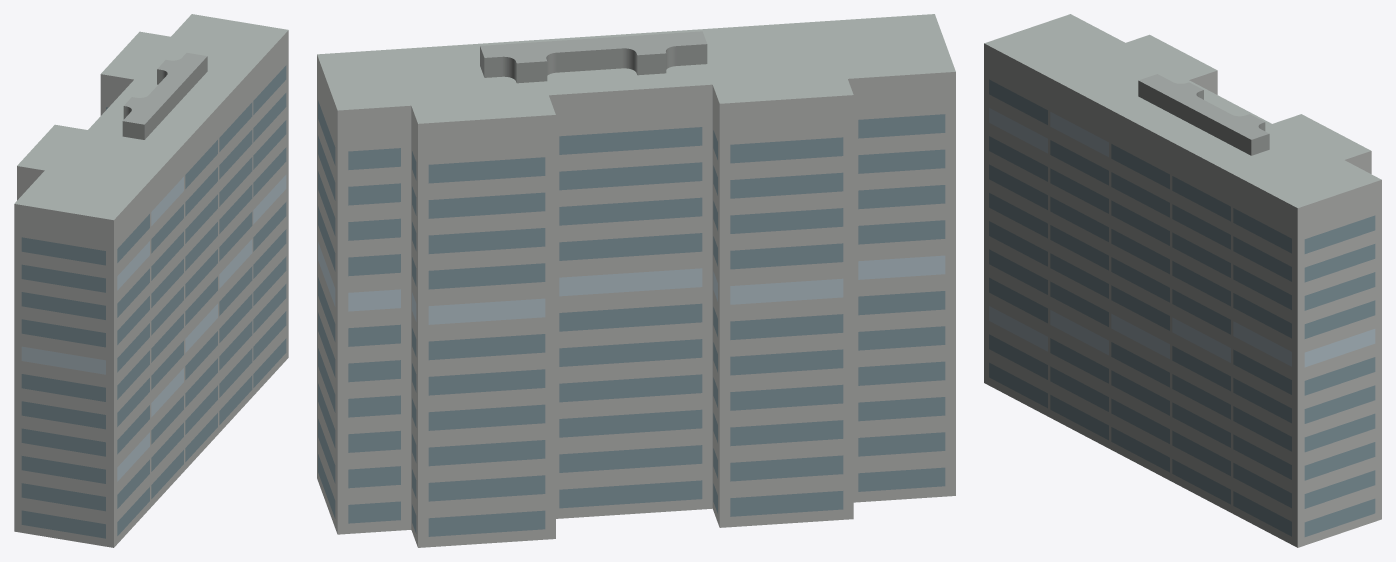
Rendered from fallback-gaepo-raemian-forest-117.glb.
The picture shows the model from 3 angles, left to right: view 1: azimuth 30°, elevation 25°; view 2: azimuth 150°, elevation 25°; view 3: azimuth 270°, elevation 25°; orthographic projection. The views are drawn at different scales.
Visible parts, largest first — view 1: fallback-gaepo-raemian-forest-117; view 2: fallback-gaepo-raemian-forest-117; view 3: fallback-gaepo-raemian-forest-117.
Boxes of the visible parts, bbox=[...] form: fallback-gaepo-raemian-forest-117: bbox=[14, 14, 288, 547]; fallback-gaepo-raemian-forest-117: bbox=[317, 14, 955, 547]; fallback-gaepo-raemian-forest-117: bbox=[984, 14, 1381, 547].
Bounding box in the file's own units: 44.52 × 38 × 38.51.
